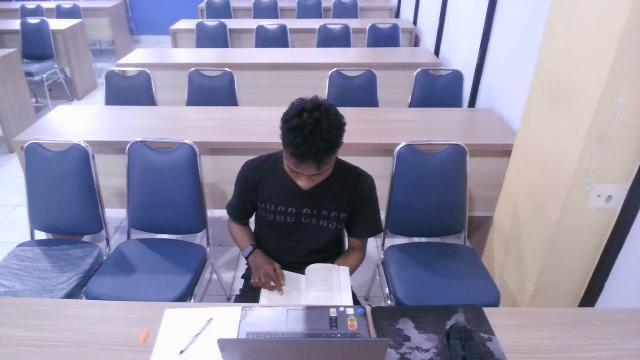Cheat_Sheet: (253, 259, 355, 307)
Head_Down_Extreme: (220, 87, 390, 334)
